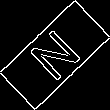N_SE: (24, 23, 86, 87)
